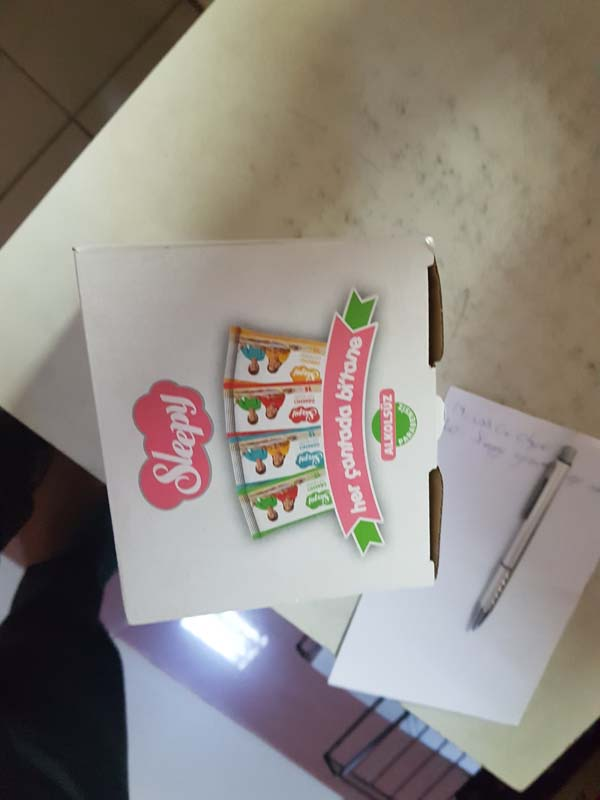sleepyogrencikoli: (52, 228, 454, 631)
